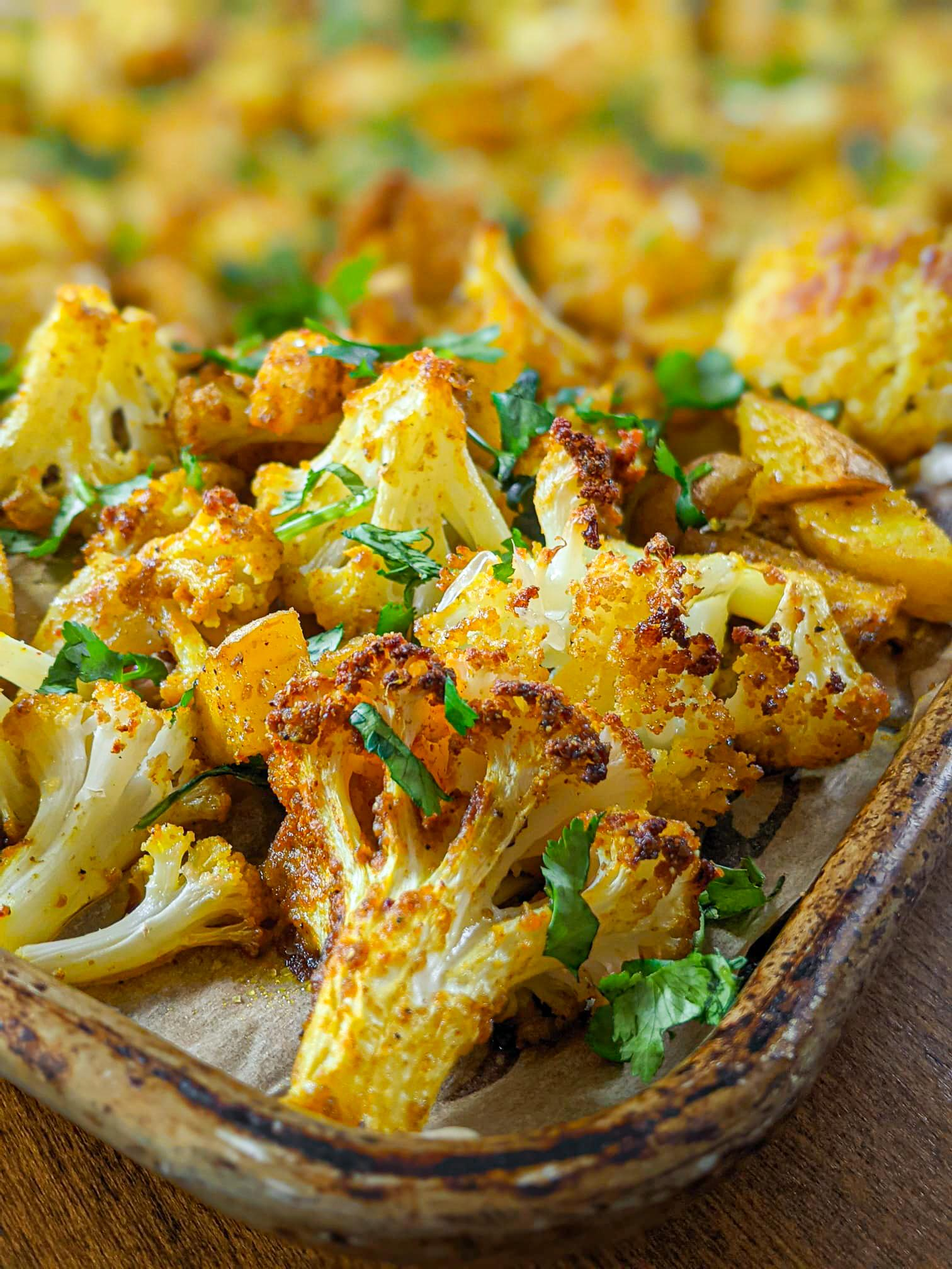aloo gobhi: (0, 127, 952, 1184)
